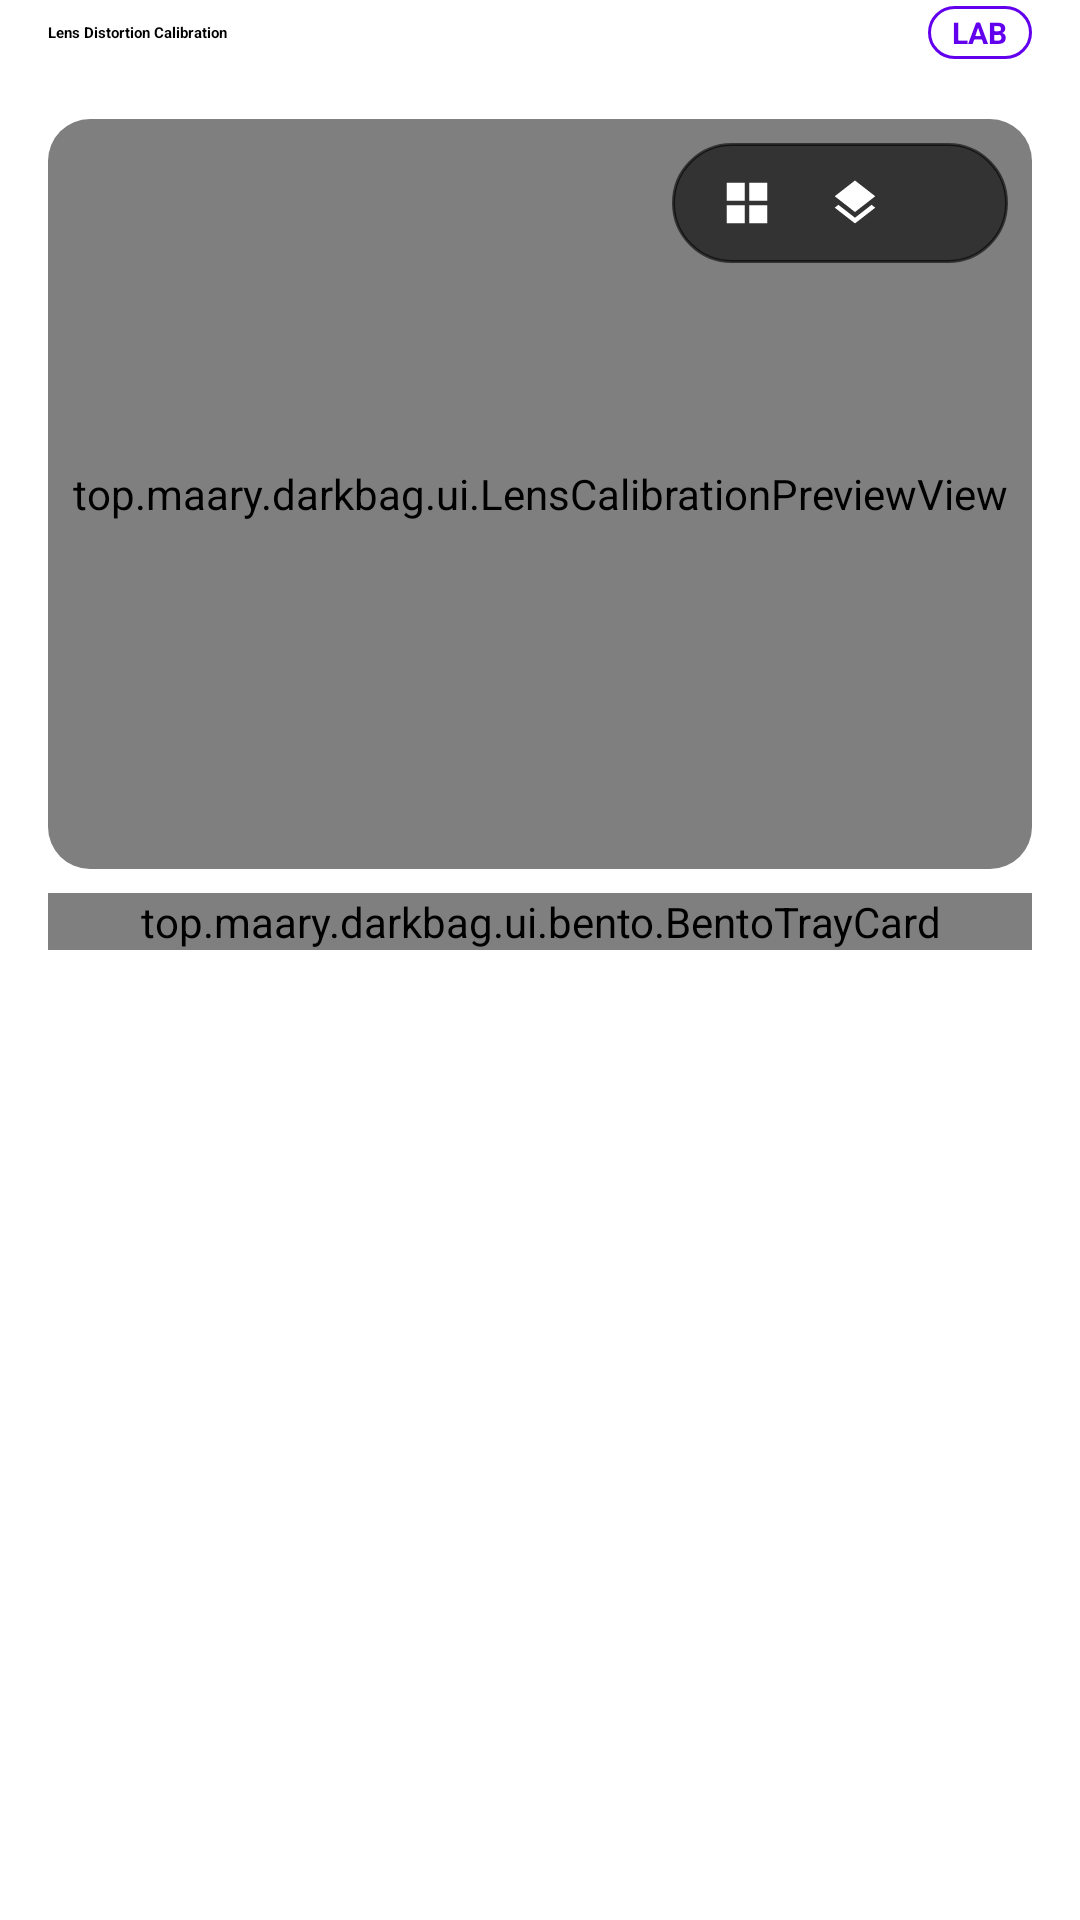

Icons on this 1080×1920 Android screen, each with the point to tap as [x,y]:
Hold or tap to compare: [855,201]
Toggle Grid: [732,203]
